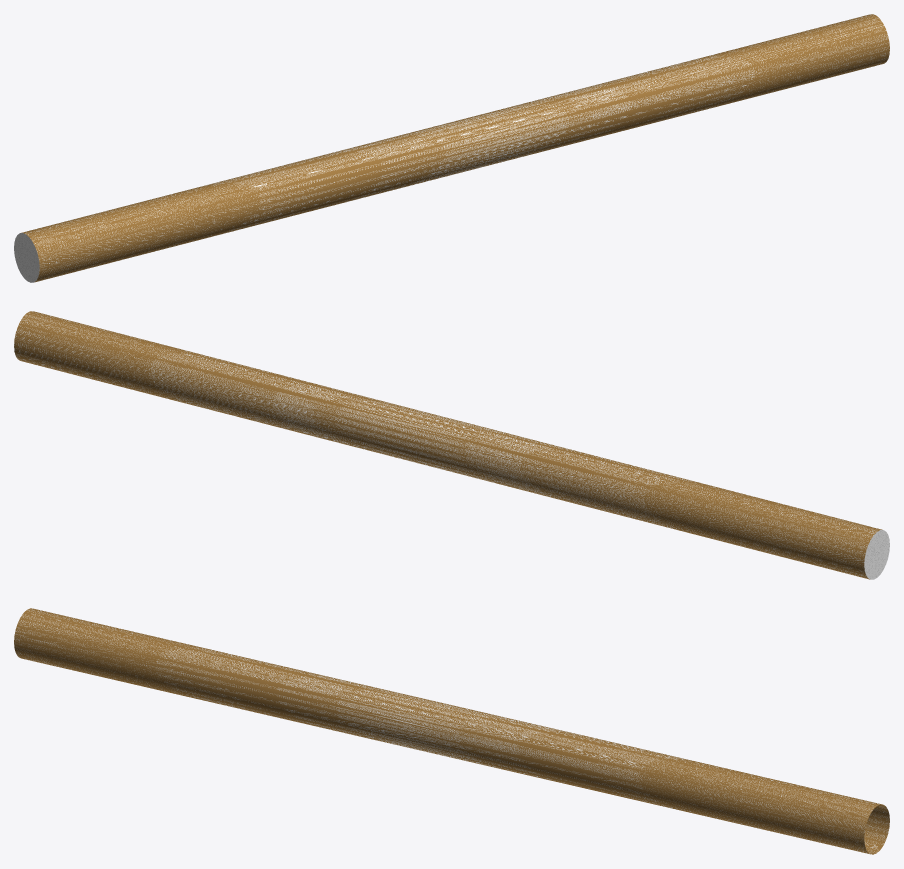
The model's file is original-8.obj.
3 renders of one model, top to bottom at view 1: azimuth 30°, elevation 25°; view 2: azimuth 150°, elevation 25°; view 3: azimuth 330°, elevation 25°, orthographic.
Parts seen in each view (by area): view 1: mesh5/mesh5-geometry#mesh5-geometry; view 2: mesh5/mesh5-geometry#mesh5-geometry; view 3: mesh5/mesh5-geometry#mesh5-geometry.
Part boxes in pixels (bbox=[...]): mesh5/mesh5-geometry#mesh5-geometry: bbox=[14, 14, 889, 282]; mesh5/mesh5-geometry#mesh5-geometry: bbox=[14, 311, 889, 579]; mesh5/mesh5-geometry#mesh5-geometry: bbox=[14, 608, 889, 854].
Size of the model in its own units: 0.5925 by 0.0386 by 0.031.
